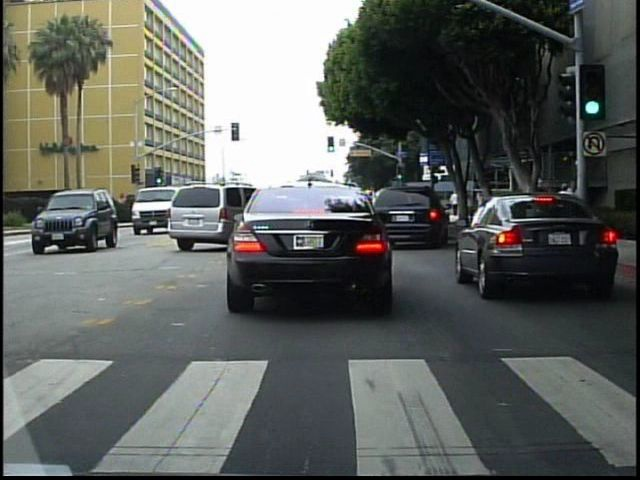person: (568, 175, 586, 236), (447, 185, 460, 222)
